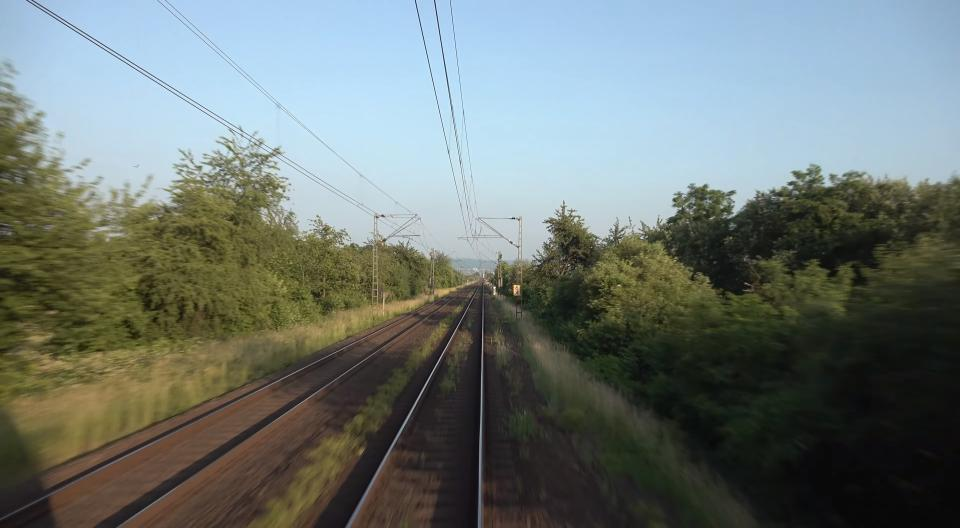Plant: (248, 298, 468, 528), (440, 318, 474, 392), (489, 295, 515, 369), (506, 410, 536, 442), (505, 364, 524, 411)
